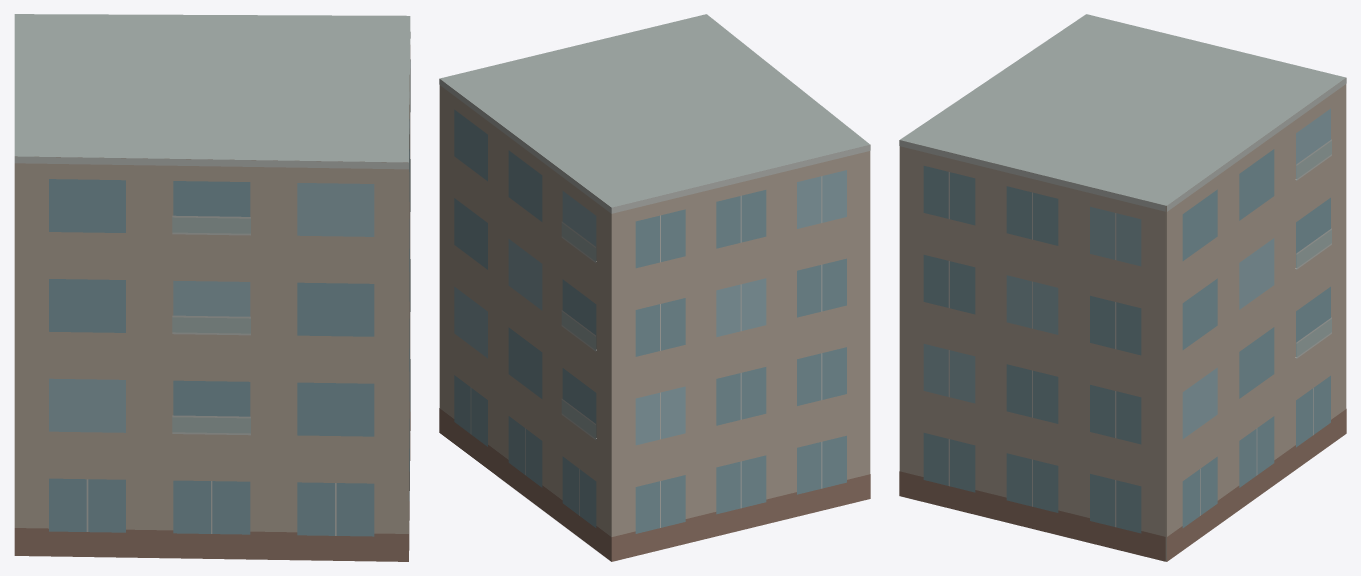
File: survey-upis-32780879.glb
3 views of the same model, side by side, from view 1: azimuth 30°, elevation 25°; view 2: azimuth 150°, elevation 25°; view 3: azimuth 270°, elevation 25° (orthographic). The views are drawn at different scales.
Parts seen in each view (by area): view 1: survey-upis-32780879.tmp; view 2: survey-upis-32780879.tmp; view 3: survey-upis-32780879.tmp.
Part boxes in pixels (<box>): survey-upis-32780879.tmp: <box>14,14,410,561</box>; survey-upis-32780879.tmp: <box>439,14,870,561</box>; survey-upis-32780879.tmp: <box>899,14,1346,561</box>.
Bounding box in the file's own units: 16.3 × 14.1 × 16.05.
